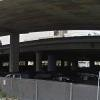Bridge: (2, 34, 98, 74)
